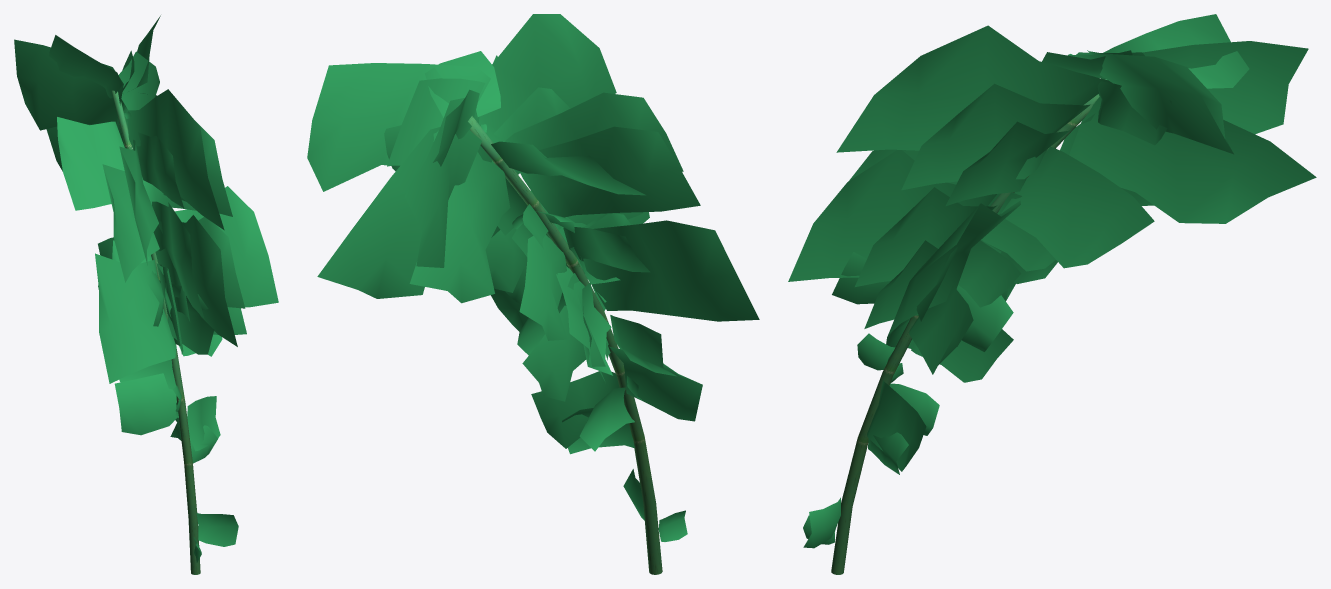
Rendered from bambu curvado pra tras.fbx.
3 views of the same model, side by side, from view 1: azimuth 30°, elevation 25°; view 2: azimuth 150°, elevation 25°; view 3: azimuth 270°, elevation 25° (orthographic). The views are drawn at different scales.
Parts seen in each view (by area): view 1: Cylinder.003; view 2: Cylinder.003; view 3: Cylinder.003.
Part boxes in pixels (x1,y1,x2,y2): Cylinder.003: (14,15,278,574); Cylinder.003: (307,14,759,574); Cylinder.003: (788,14,1316,574).
Size of the model in its own units: 306 by 693 by 584.
